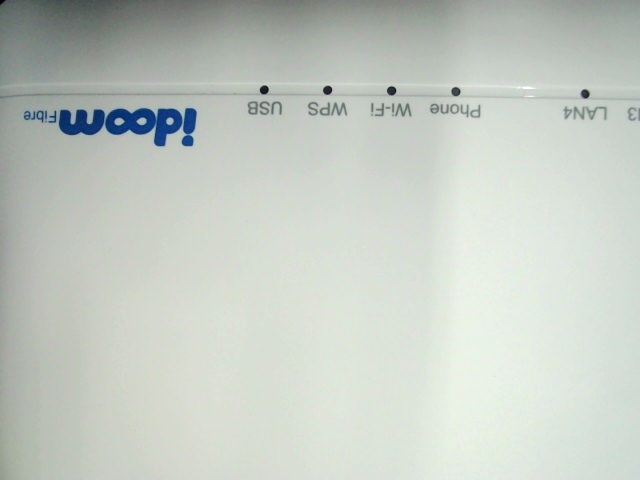BB_idoom: (23, 95, 198, 150)
